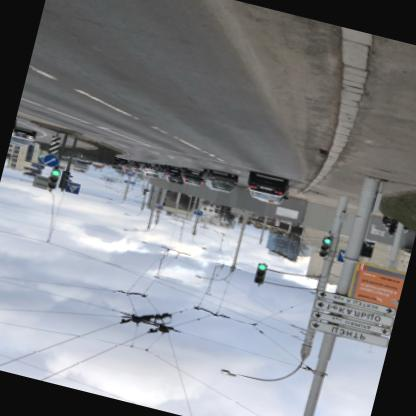crosswalk: (333, 249, 344, 264)
trafficlight: (315, 238, 332, 261), (250, 262, 266, 286), (42, 169, 58, 191), (57, 172, 70, 192)
